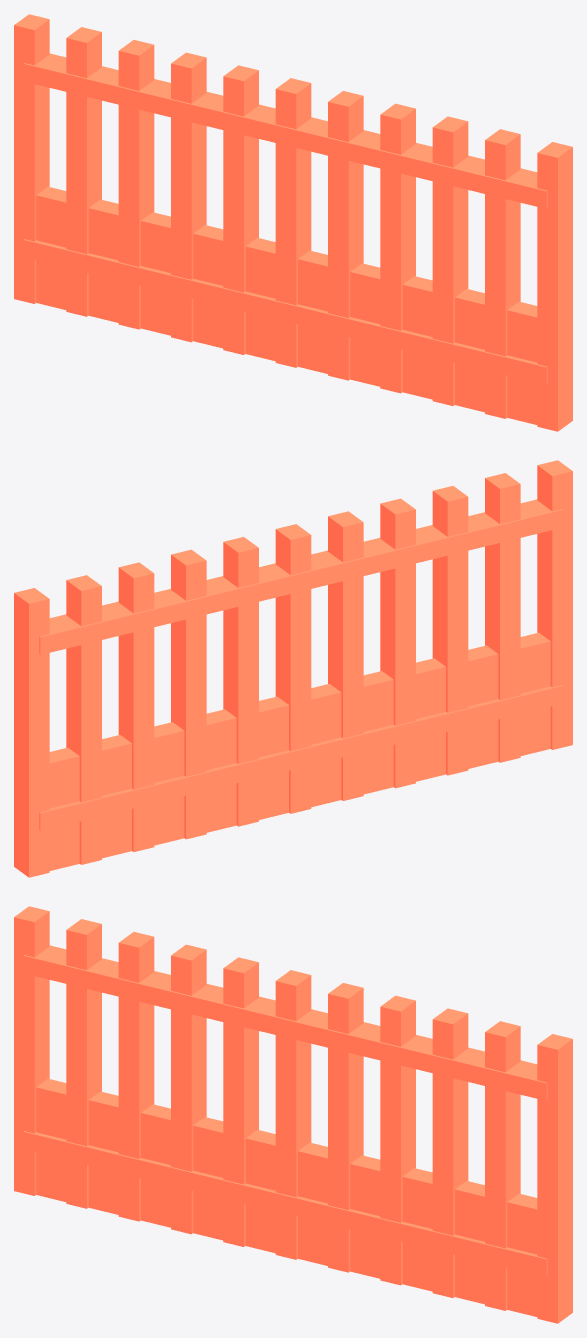
The model's file is SM_R02B_Gate_2_to_1.fbx.
The picture shows the model from 3 angles, top to bottom: view 1: azimuth 90°, elevation 25°; view 2: azimuth 150°, elevation 25°; view 3: azimuth 270°, elevation 25°; orthographic projection.
Parts seen in each view (by area): view 1: SM_R02B_Gate_2_to_1; view 2: SM_R02B_Gate_2_to_1; view 3: SM_R02B_Gate_2_to_1.
Part boxes in pixels (<box>): SM_R02B_Gate_2_to_1: <box>14,14,572,431</box>; SM_R02B_Gate_2_to_1: <box>14,460,572,877</box>; SM_R02B_Gate_2_to_1: <box>14,906,572,1323</box>.
Bounding box in the file's own units: 315 × 518 × 280.
